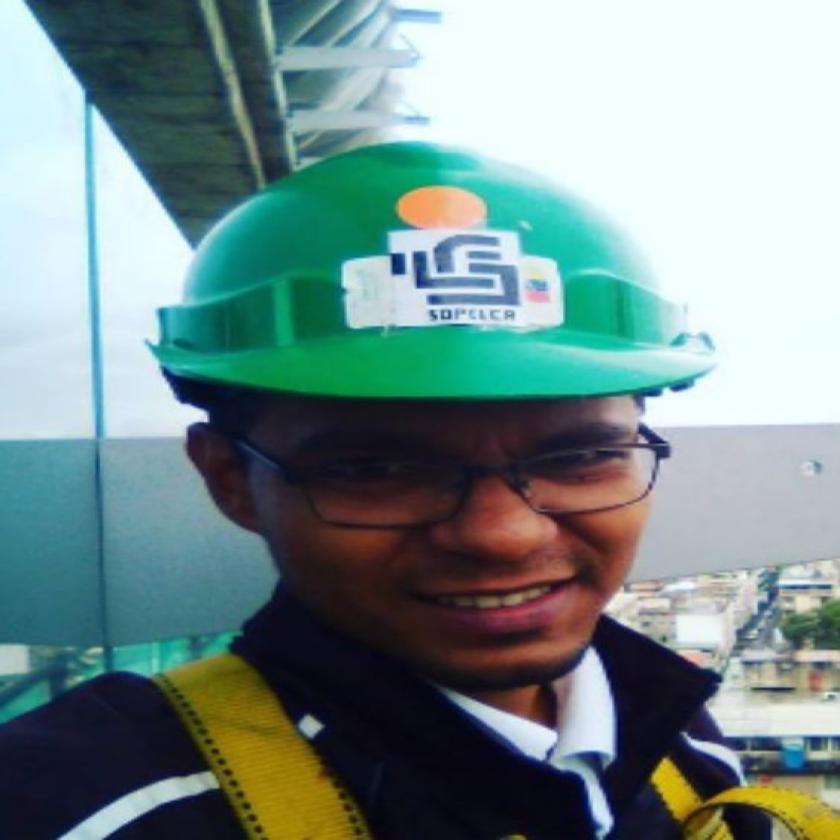Con_casco: (145, 138, 732, 680)
